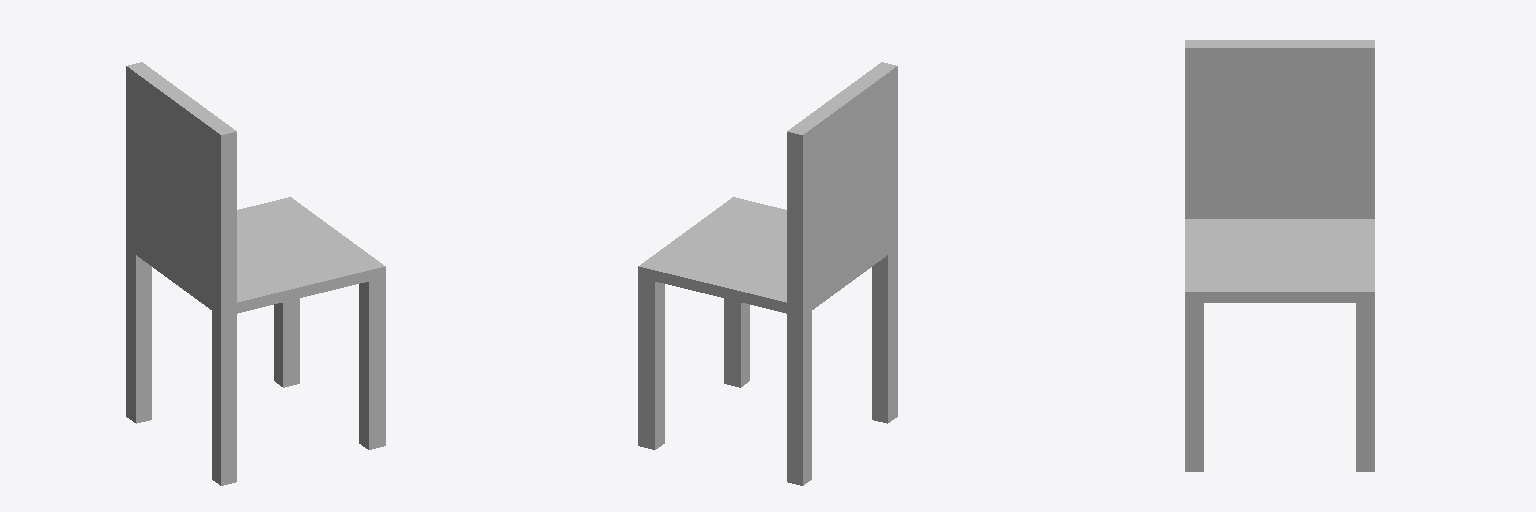
The model's file is Chair.obj.
The picture shows the model from 3 angles: view 1: azimuth 30°, elevation 25°; view 2: azimuth 150°, elevation 25°; view 3: azimuth 270°, elevation 25°; orthographic projection.
Visible parts, largest first — view 1: pasted__pCube2 group; view 2: pasted__pCube2 group; view 3: pasted__pCube2 group.
Boxes of the visible parts, box(x1,y1,x2,y2) form: pasted__pCube2 group: box(126, 62, 385, 485); pasted__pCube2 group: box(638, 62, 897, 485); pasted__pCube2 group: box(1185, 40, 1374, 471).
Bounding box in the file's own units: 0.7267 × 1.48 × 0.7267.